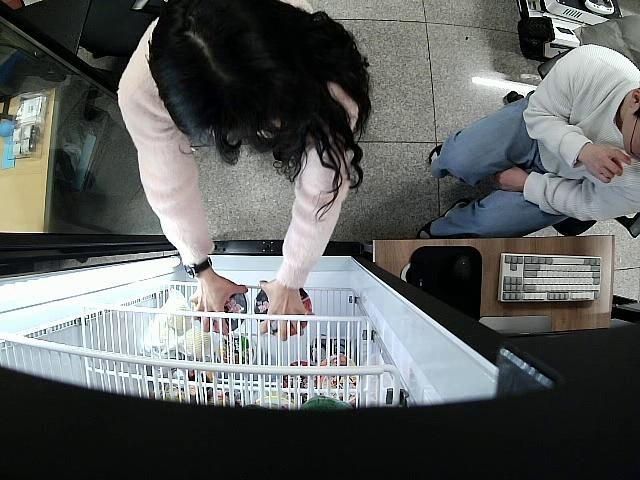07_buldak_L: (256, 284, 312, 338), (193, 290, 248, 333)
